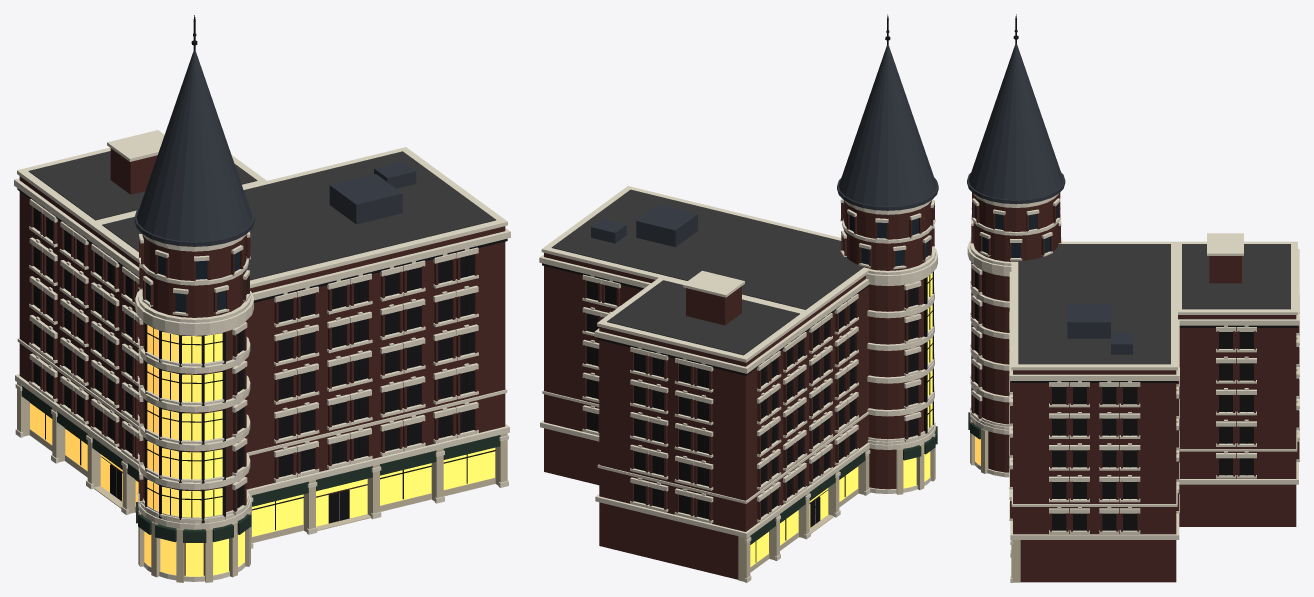
File: turret_corner_building.glb
The picture shows the model from 3 angles, left to right: view 1: azimuth 30°, elevation 25°; view 2: azimuth 150°, elevation 25°; view 3: azimuth 270°, elevation 25°; orthographic projection. The views are drawn at different scales.
Parts seen in each view (by area): view 1: TurretCornerBuilding; view 2: TurretCornerBuilding; view 3: TurretCornerBuilding.
Boxes of the visible parts, x1,y1,x2,y2 form: TurretCornerBuilding: (14,15,510,582); TurretCornerBuilding: (539,14,938,582); TurretCornerBuilding: (967,14,1299,582).
Bounding box in the file's own units: 31.52 × 45.05 × 30.52.
